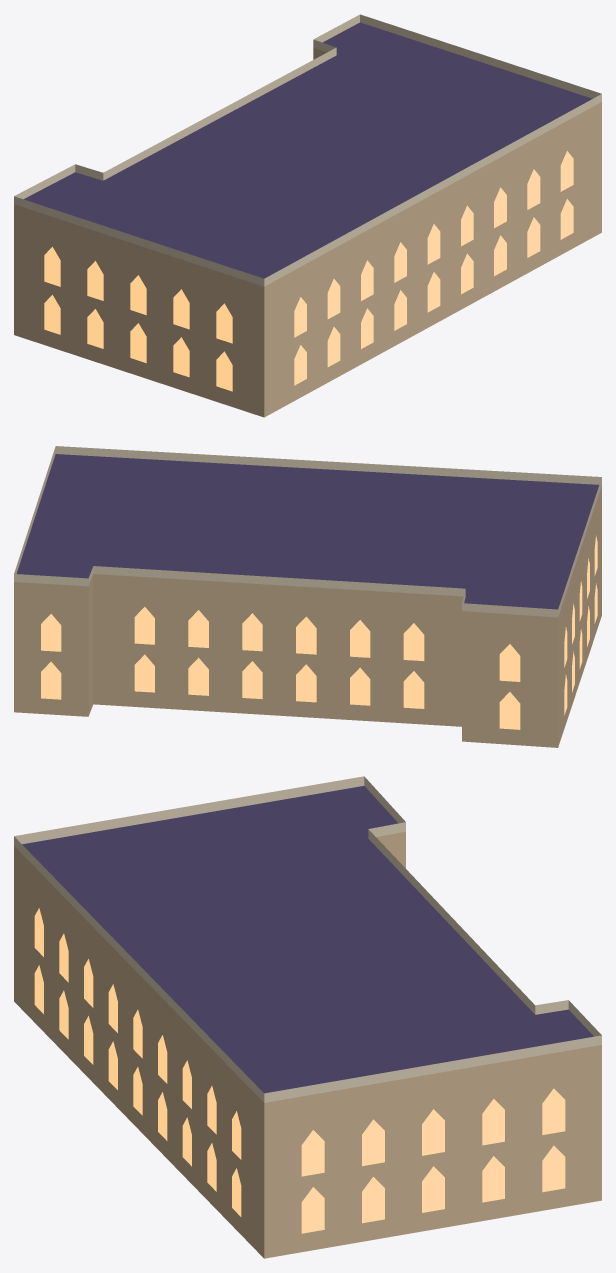
The model's file is b-009-hellmuth-hall.glb.
3 renders of one model, top to bottom at view 1: azimuth 30°, elevation 25°; view 2: azimuth 150°, elevation 25°; view 3: azimuth 270°, elevation 25°, orthographic. The views are drawn at different scales.
Parts seen in each view (by area): view 1: campus/b-009-hellmuth-hall-0; view 2: campus/b-009-hellmuth-hall-0; view 3: campus/b-009-hellmuth-hall-0.
Part boxes in pixels (bbox=[...]): campus/b-009-hellmuth-hall-0: bbox=[14, 14, 601, 417]; campus/b-009-hellmuth-hall-0: bbox=[14, 446, 601, 747]; campus/b-009-hellmuth-hall-0: bbox=[14, 776, 601, 1258].
Bounding box in the file's own units: 39.3 × 9.55 × 30.79.
